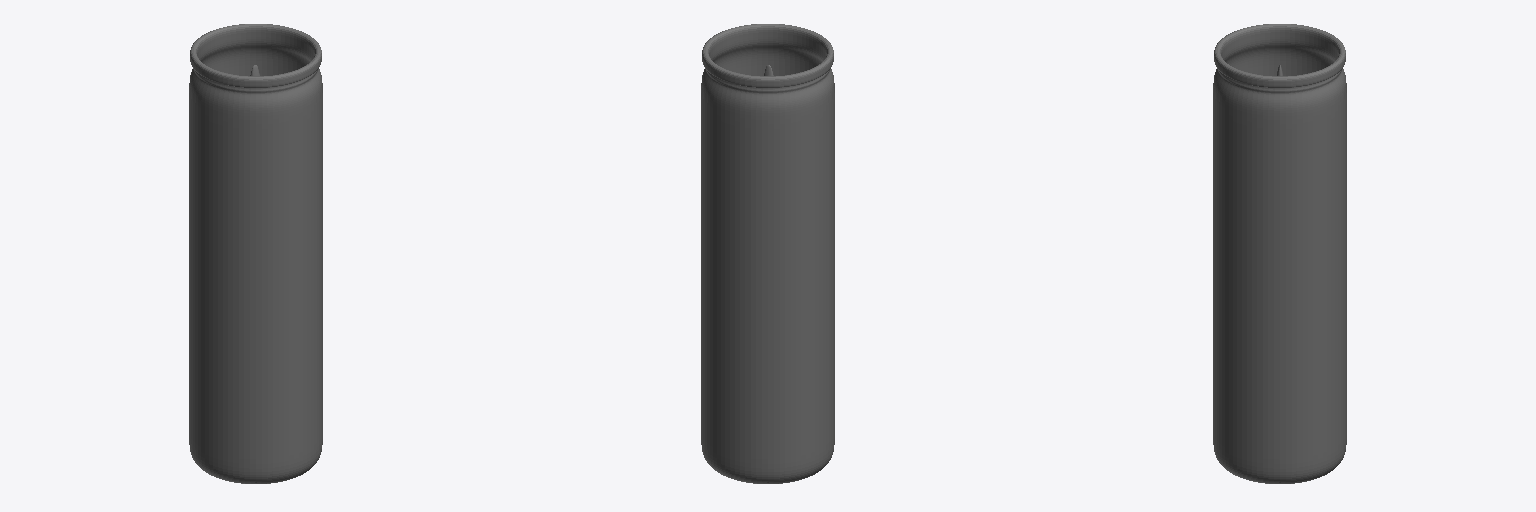
The model's file is Voodoo_Candle_02_v1_White_Lit_Max_Vray_NC.obj.
3 renders of one model, left to right at view 1: azimuth 30°, elevation 25°; view 2: azimuth 150°, elevation 25°; view 3: azimuth 270°, elevation 25°, orthographic.
Parts seen in each view (by area): view 1: Glass_V2_root; view 2: Glass_V2_root; view 3: Glass_V2_root.
Boxes of the visible parts, x1,y1,x2,y2 form: Glass_V2_root: [189, 24, 322, 483]; Glass_V2_root: [701, 24, 834, 483]; Glass_V2_root: [1213, 24, 1346, 483].
Bounding box in the file's own units: 8.84 × 30 × 8.84.